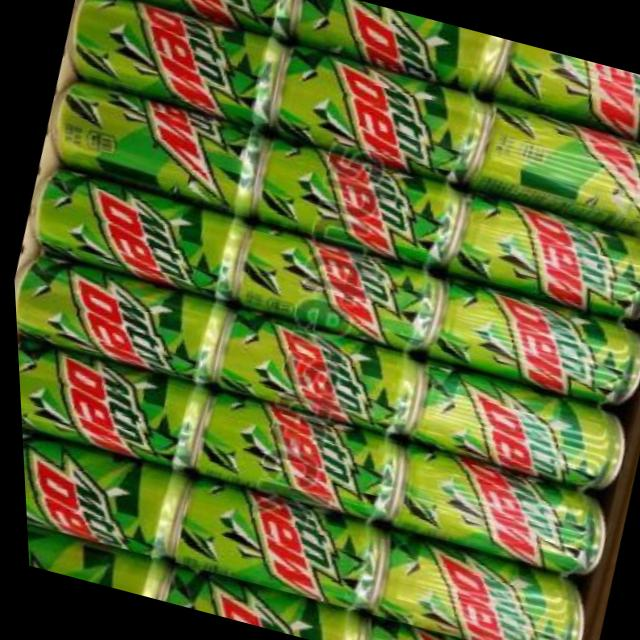Drinks: (35, 74, 270, 218), (260, 42, 489, 186), (400, 361, 632, 502), (159, 471, 387, 614), (240, 133, 469, 275), (15, 162, 244, 301), (382, 448, 613, 584), (178, 386, 405, 524), (421, 274, 640, 416), (197, 302, 423, 437), (218, 221, 444, 356), (54, 0, 289, 129), (10, 245, 226, 384), (443, 189, 640, 328), (13, 331, 203, 468), (463, 99, 640, 244), (363, 528, 590, 640), (17, 417, 185, 560), (286, 0, 505, 95), (486, 37, 640, 157), (149, 561, 361, 640), (21, 507, 161, 599), (79, 0, 302, 38), (354, 612, 565, 640)
